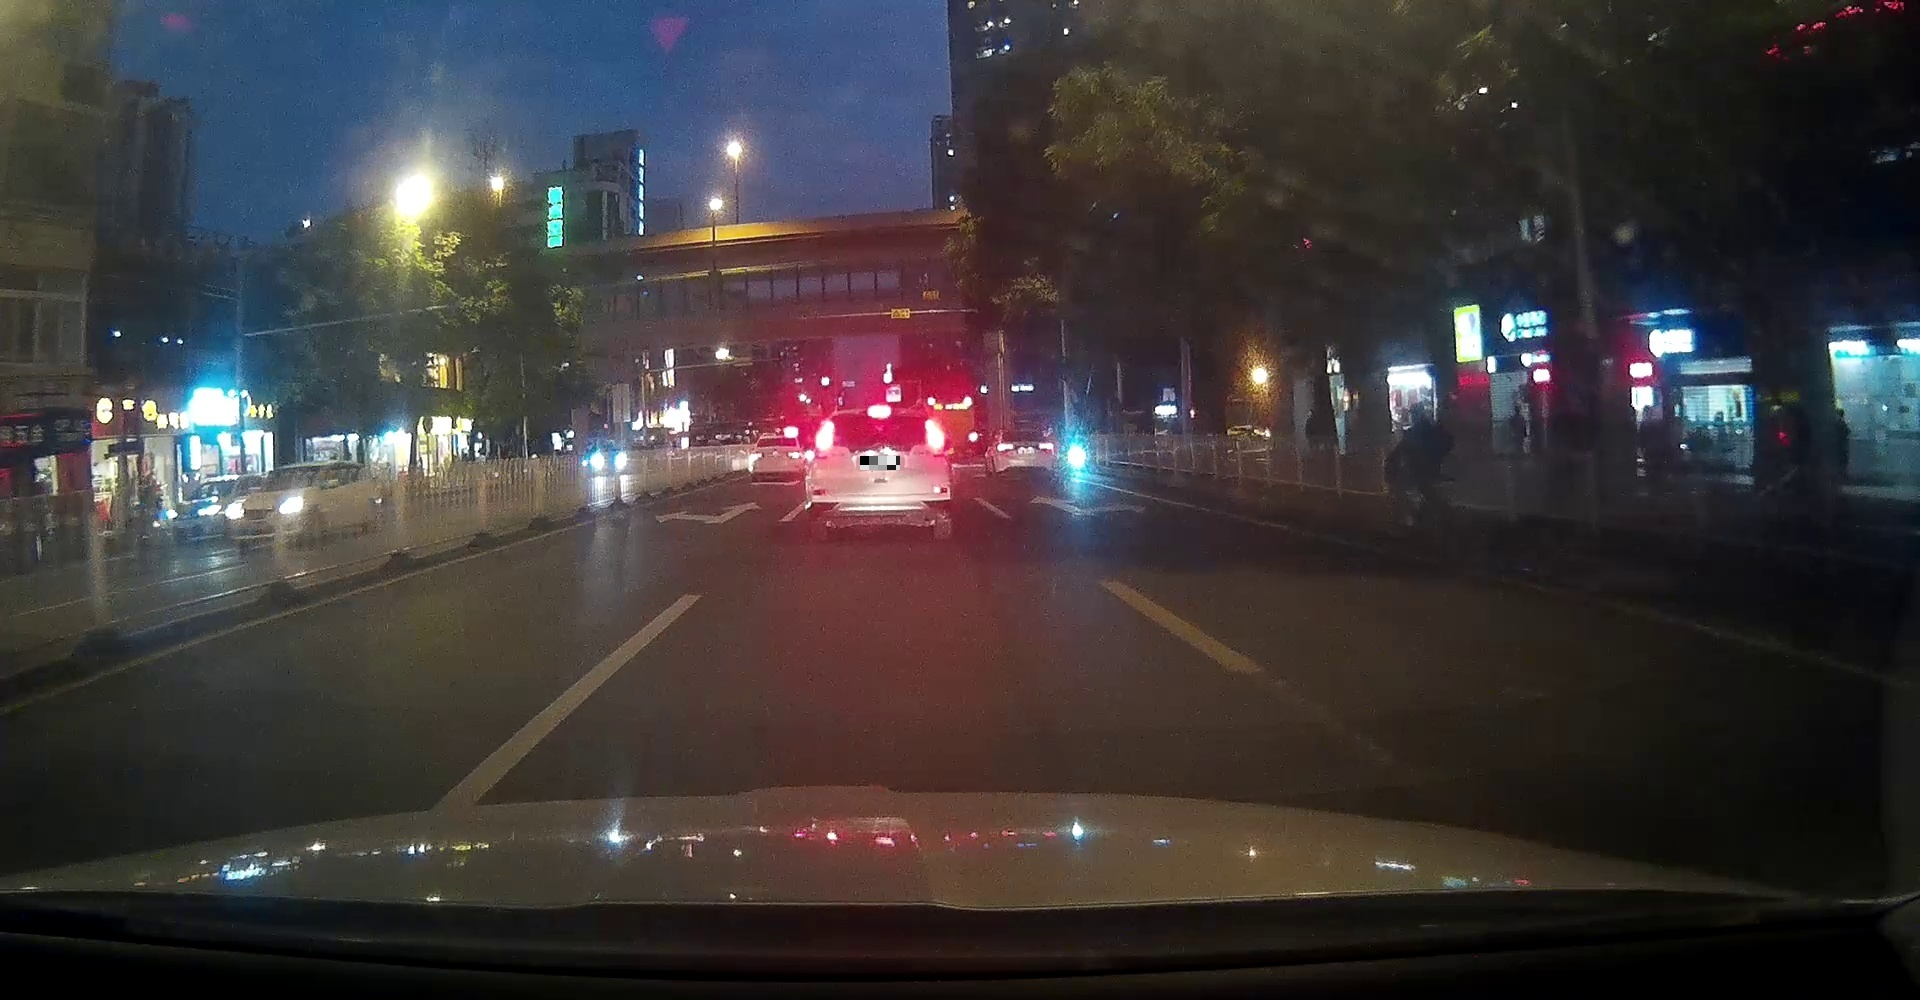L_light: (815, 418, 836, 452), (996, 443, 1015, 451), (748, 452, 762, 459)
R_light: (924, 419, 945, 451), (1037, 442, 1054, 451), (787, 451, 801, 459)
T_light: (867, 405, 891, 418), (773, 437, 782, 440), (1022, 430, 1032, 433)
night-brake: (808, 404, 949, 518)
night-no: (996, 426, 1055, 480), (748, 435, 801, 481)
plate_1: (860, 456, 900, 470)
